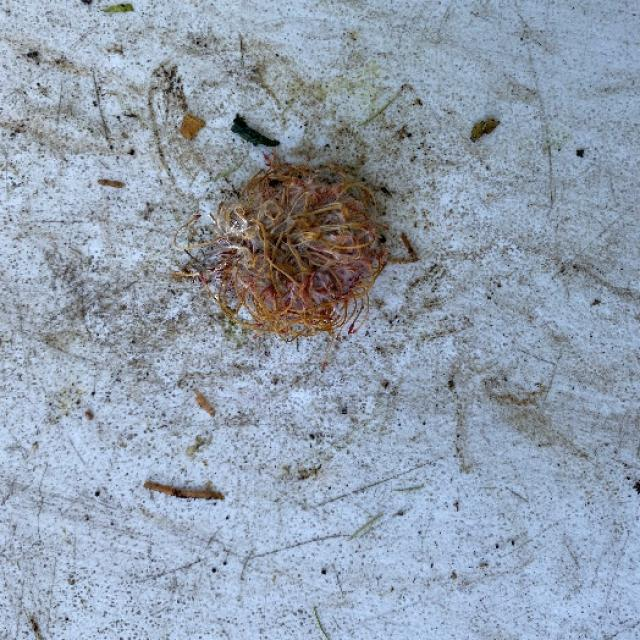organik: (201, 153, 380, 333)
